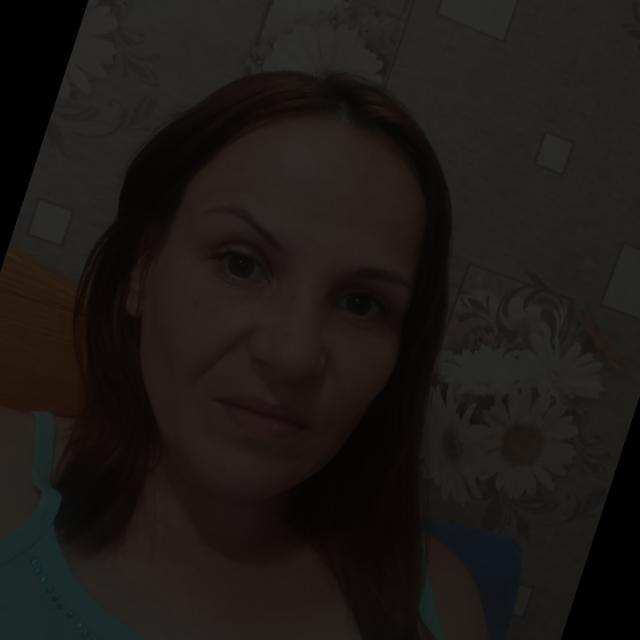Angry: (97, 63, 468, 480)
